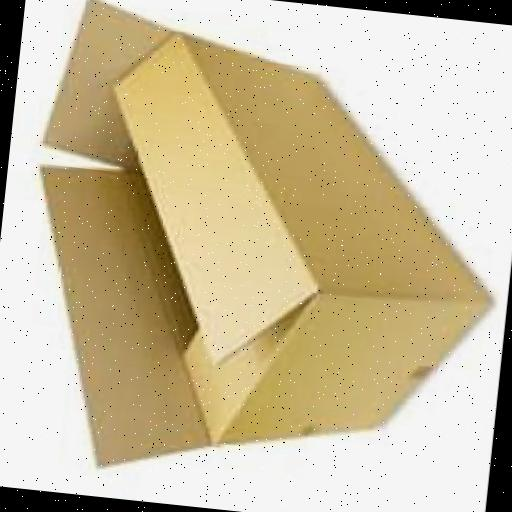cardboard: (5, 0, 512, 509)
